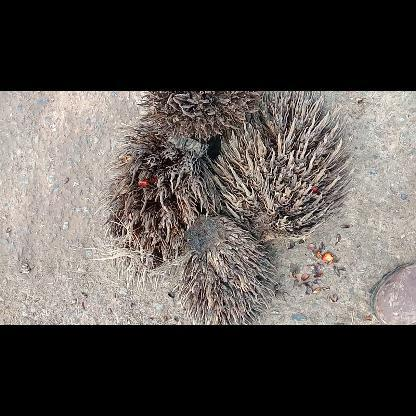Janjang kosong: (92, 122, 222, 292), (214, 90, 354, 240), (172, 214, 276, 324), (138, 91, 258, 141)
